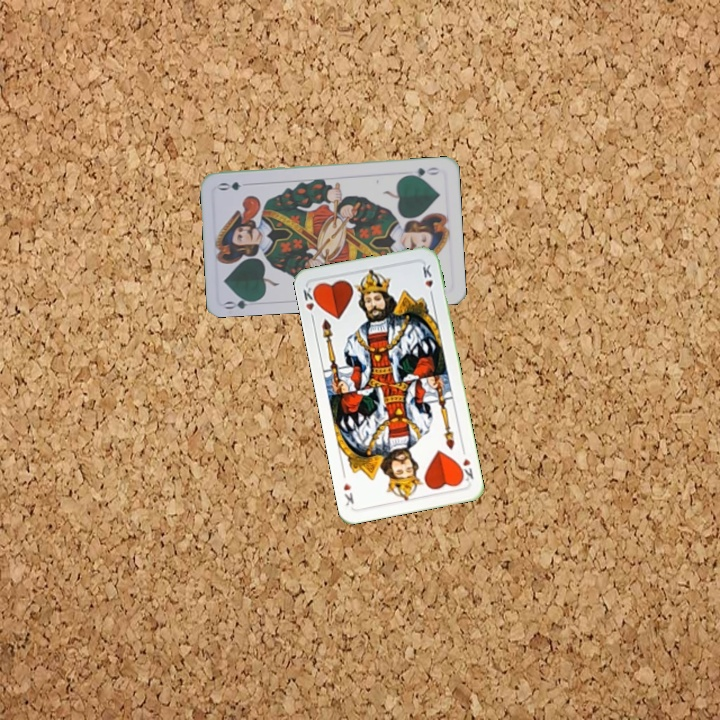GO: (221, 292, 261, 312), (403, 163, 442, 181)
HK: (299, 282, 321, 324), (455, 445, 476, 485)
